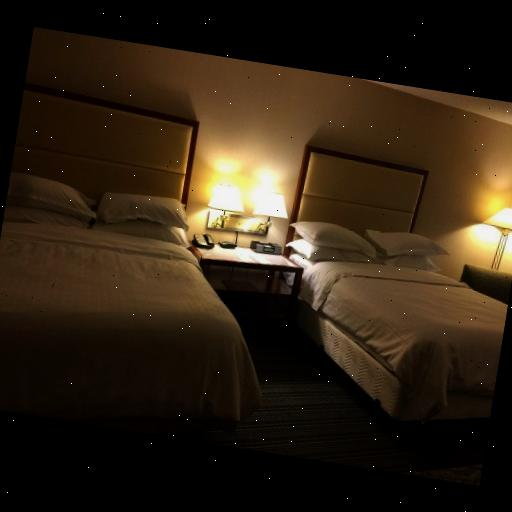clean_bed: (0, 84, 246, 429), (286, 143, 507, 424)
lamp: (198, 178, 288, 244), (473, 200, 512, 270)
organised_pillow: (2, 166, 182, 248), (290, 214, 442, 282)
